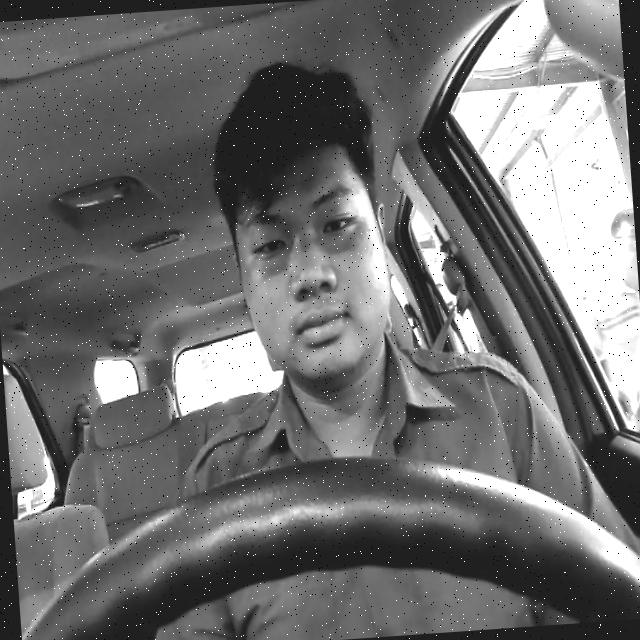focused: (226, 140, 396, 387)
